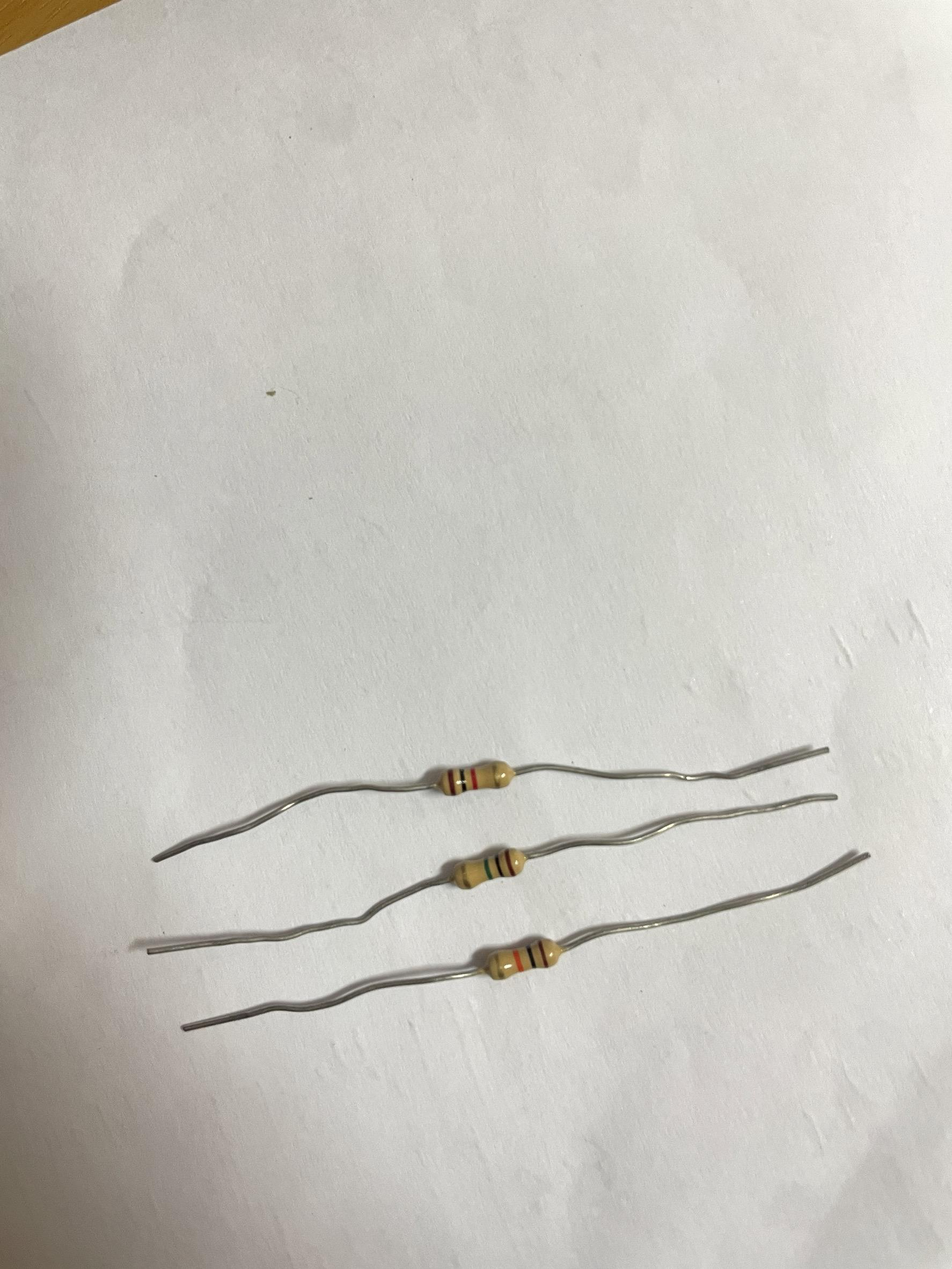resistor: (479, 929, 571, 984), (433, 755, 512, 800), (454, 848, 526, 889)
